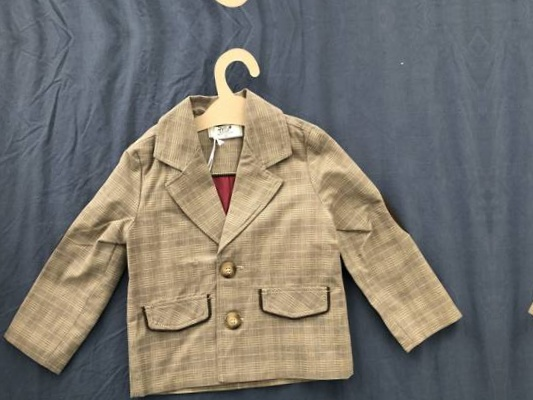Blazer: (18, 57, 463, 400), (516, 27, 533, 382)
